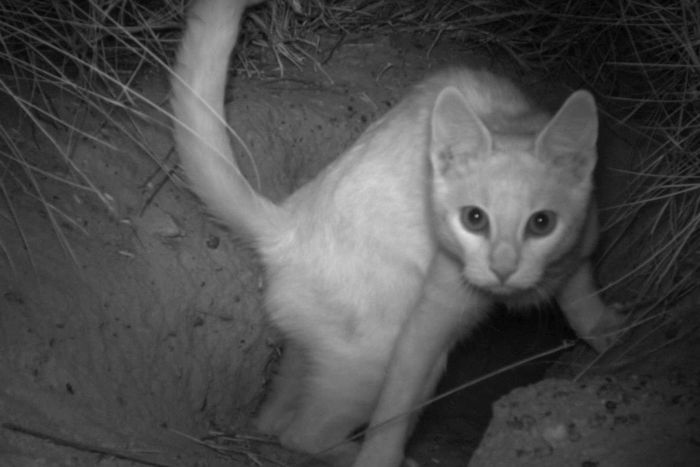house cat: (165, 9, 613, 443)
